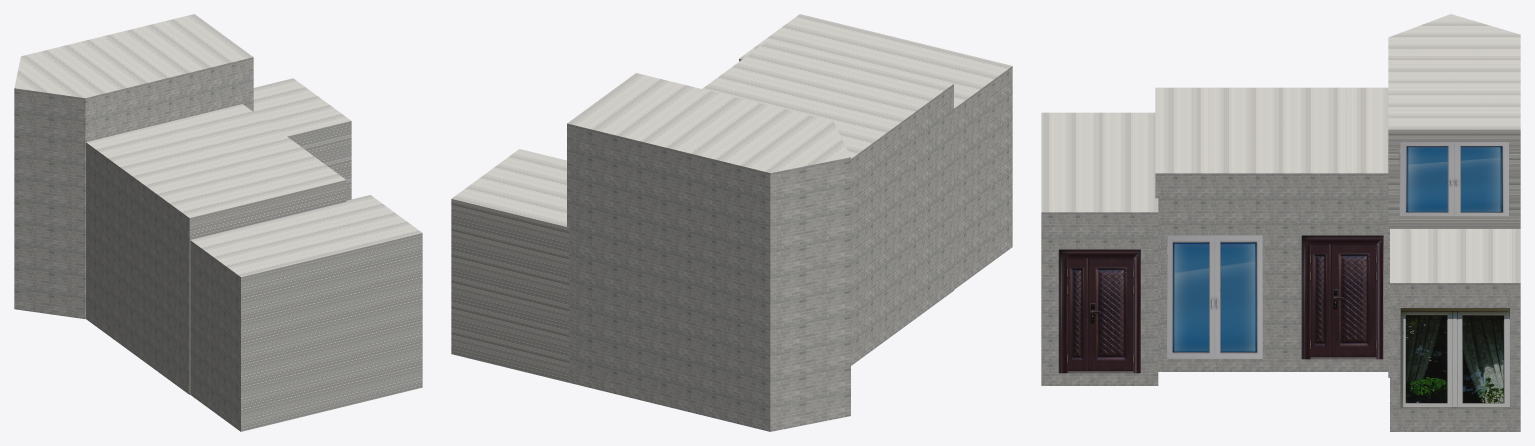
Rendered from unknow1.fbx.
3 views of the same model, side by side, from view 1: azimuth 30°, elevation 25°; view 2: azimuth 150°, elevation 25°; view 3: azimuth 270°, elevation 25° (orthographic). The views are drawn at different scales.
Visible parts, largest first — view 1: CityEngineShapeMaterial_2_m; view 2: CityEngineShapeMaterial_2_m; view 3: CityEngineShapeMaterial_2_m, CityEngineShapeMaterial_m, CityEngineShapeMaterial_1_m, CityEngineShapeMaterial_3_m.
Boxes of the visible parts, x1,y1,x2,y2 form: CityEngineShapeMaterial_2_m: (14, 14, 422, 431); CityEngineShapeMaterial_2_m: (451, 14, 1012, 431); CityEngineShapeMaterial_2_m: (1041, 14, 1520, 431); CityEngineShapeMaterial_m: (1058, 235, 1383, 373); CityEngineShapeMaterial_1_m: (1167, 142, 1508, 359); CityEngineShapeMaterial_3_m: (1400, 308, 1509, 407).
Bounding box in the file's own units: 14.68 × 10 × 17.51.
